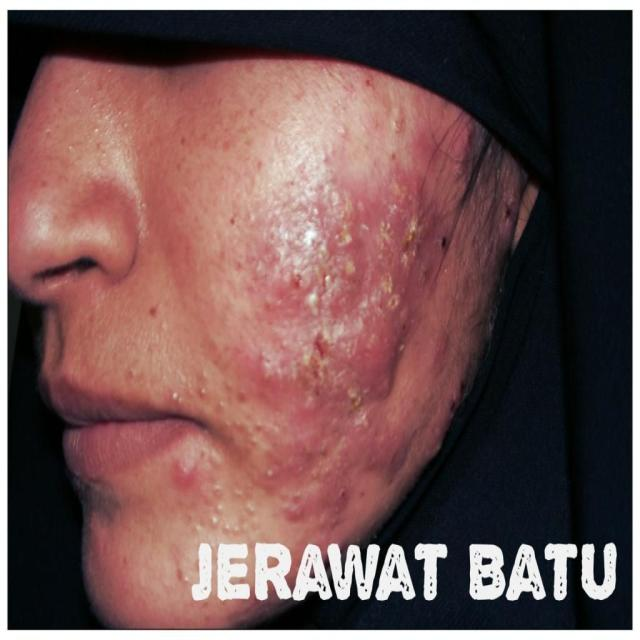Acne: (228, 155, 415, 530), (169, 457, 208, 501)
